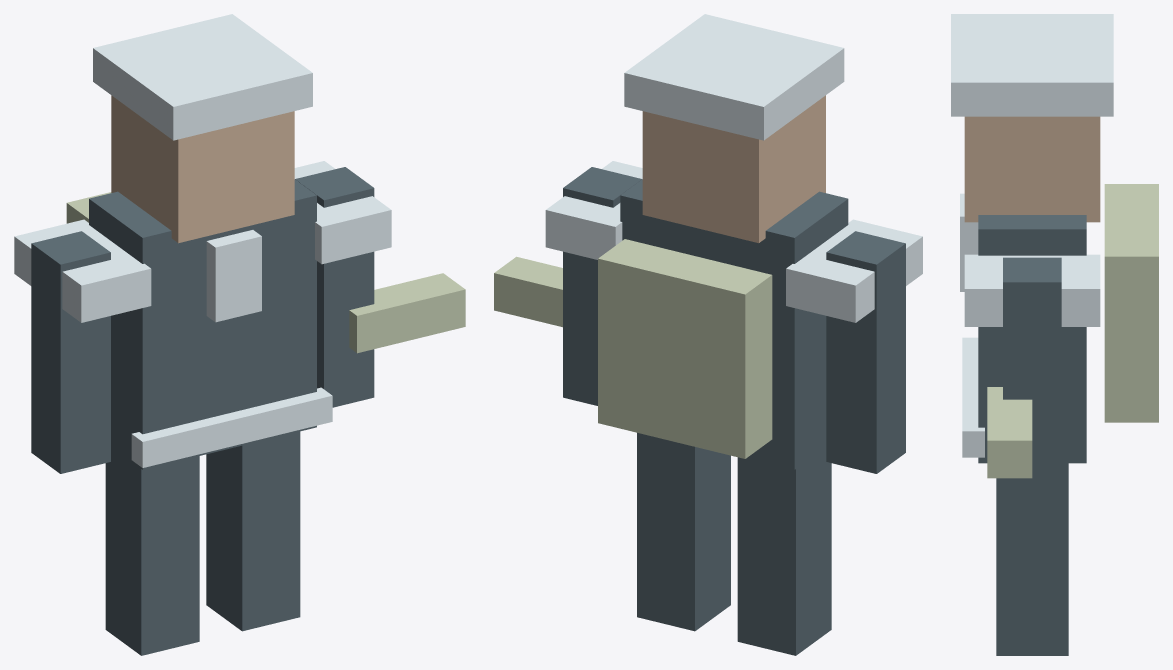
The model's file is 12_talia_mossguard_oracle_from_isolation.glb.
The picture shows the model from 3 angles, left to right: view 1: azimuth 30°, elevation 25°; view 2: azimuth 150°, elevation 25°; view 3: azimuth 270°, elevation 25°; orthographic projection.
Visible parts, largest first — view 1: Talia Mossguard, Oracle from Isolation; view 2: Talia Mossguard, Oracle from Isolation; view 3: Talia Mossguard, Oracle from Isolation.
Part boxes in pixels (x1,y1,x2,y2): Talia Mossguard, Oracle from Isolation: (14, 14, 465, 655); Talia Mossguard, Oracle from Isolation: (494, 14, 922, 655); Talia Mossguard, Oracle from Isolation: (951, 14, 1158, 655).
Bounding box in the file's own units: 1.1 × 1.49 × 0.4941.
